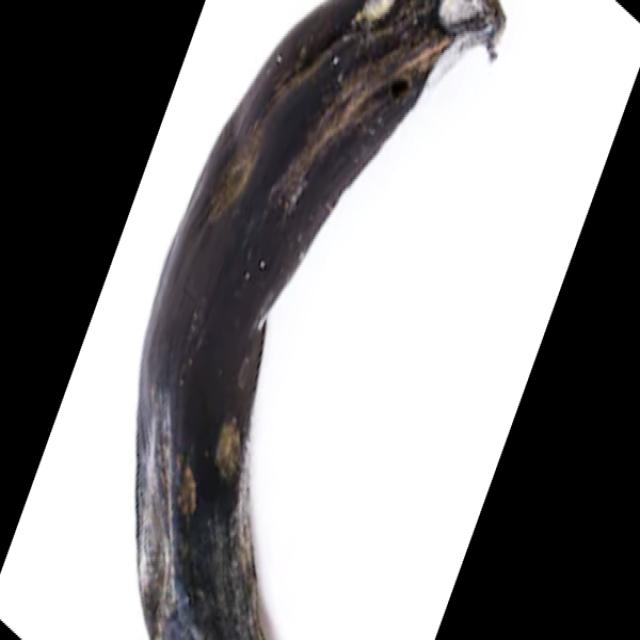Rotten: (134, 0, 507, 640)
